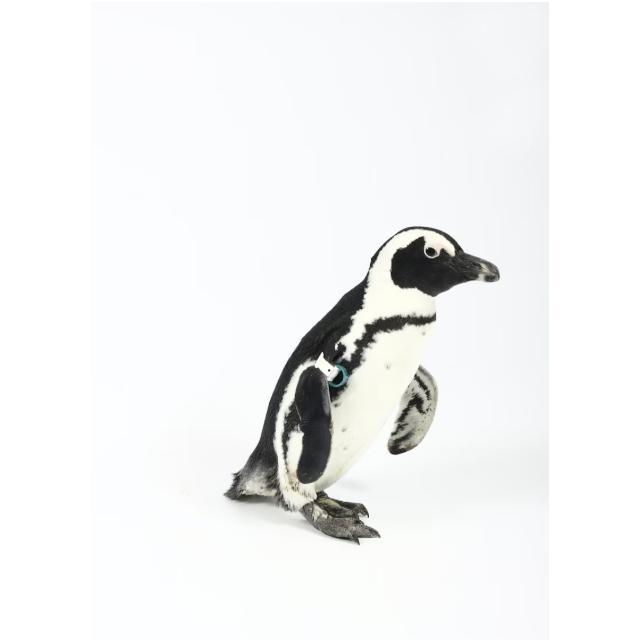penguin: (223, 227, 501, 547)
